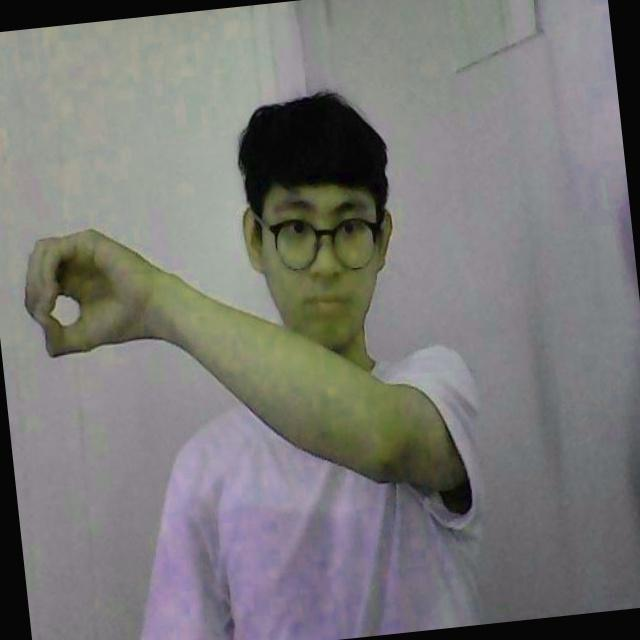O: (17, 218, 158, 378)
